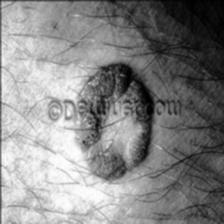Toxin: (81, 71, 145, 182)
